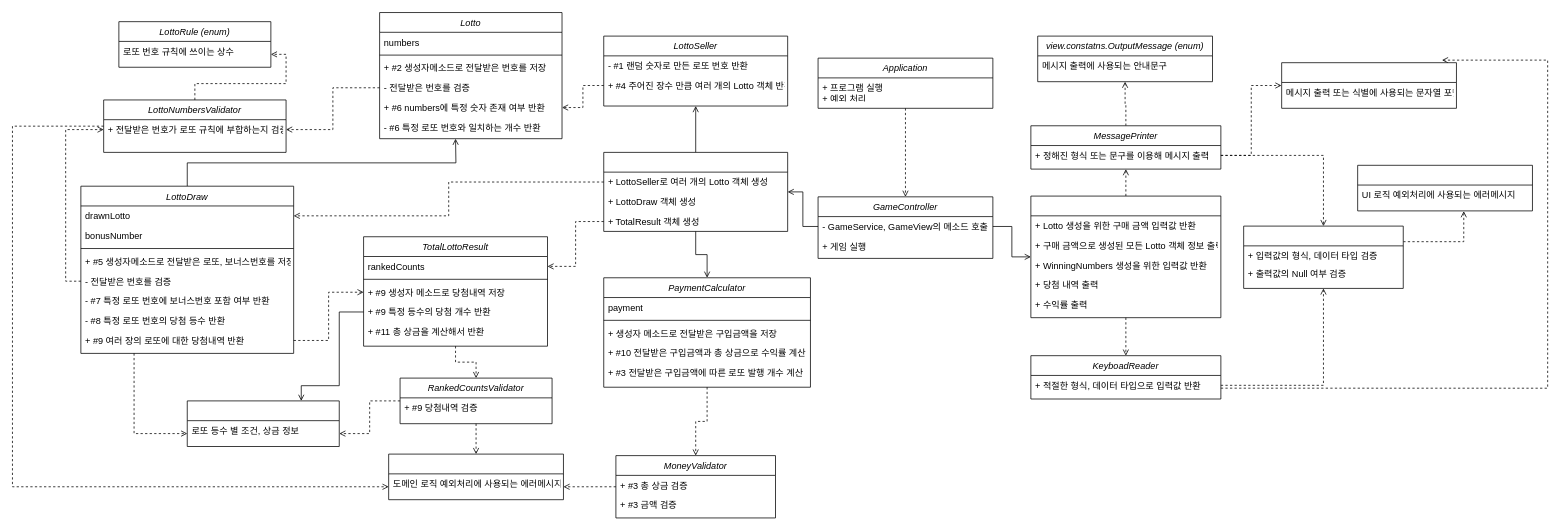
Image size: 1560x530. Some labels were removed from this diagram. Each missing label, with the box of its shape:
domain.constatns.ErrorMessage (enum): (388, 453, 563, 500)
GameService: (603, 152, 788, 231)
GameView: (1030, 195, 1221, 318)
IOValidator: (1243, 225, 1403, 288)
LottoRank (enum): (187, 400, 339, 446)
view.constatns.ErrorMessage (enum): (1357, 165, 1532, 211)
view.constatns.Format (enum): (1281, 62, 1456, 108)
